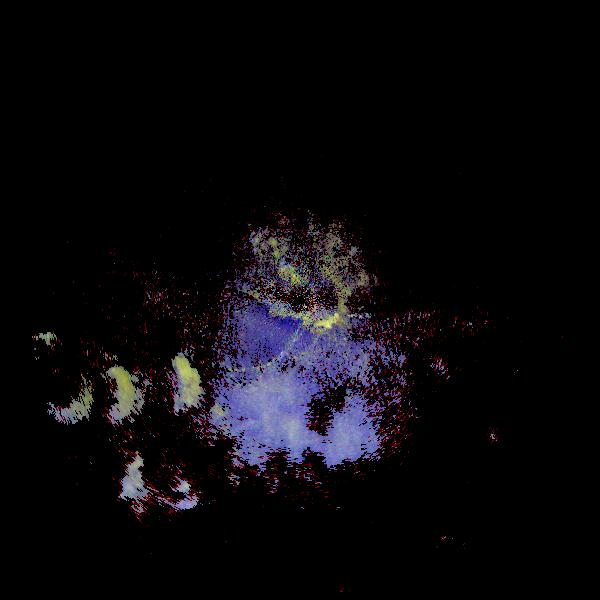roost: (44, 329, 161, 446), (121, 328, 223, 430)
